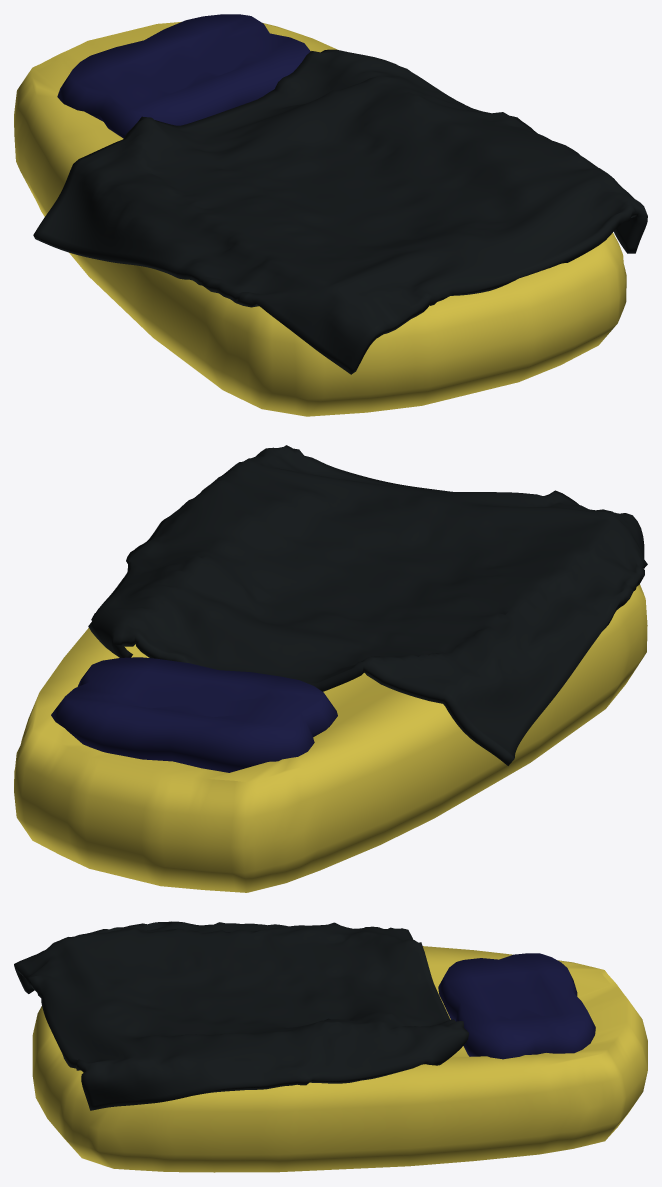
File: Comet Bed.2.obj
3 views of the same model, one above another, from view 1: azimuth 30°, elevation 25°; view 2: azimuth 150°, elevation 25°; view 3: azimuth 270°, elevation 25° (orthographic). The views are drawn at different scales.
Parts seen in each view (by area): view 1: blanket, Bed.001, pillow; view 2: blanket, Bed.001, pillow; view 3: blanket, Bed.001, pillow.
Part boxes in pixels (x1,y1,x2,y2): blanket: (33,49,647,374); Bed.001: (14,21,626,416); pillow: (57,14,310,138); blanket: (88,445,647,765); Bed.001: (14,584,647,892); pillow: (51,657,337,772); blanket: (14,921,468,1110); Bed.001: (32,946,647,1172); pillow: (438,953,595,1059).
Size of the model in its own units: 175 by 56.59 by 264.
